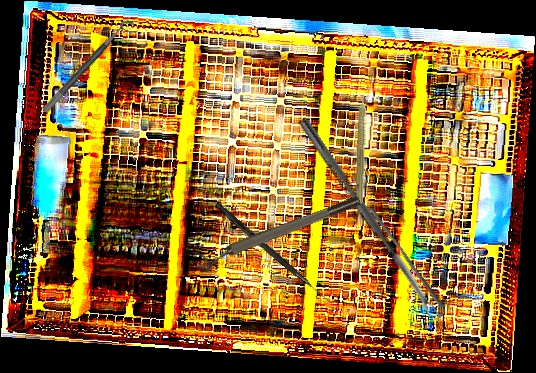Fixation Ring: (192, 192, 365, 275), (41, 15, 141, 122)
Handpiece: (353, 86, 372, 204)
Hook Surgical: (213, 202, 334, 305)
Pusher: (365, 206, 449, 309)
Surgical Spoon: (296, 116, 440, 321)
